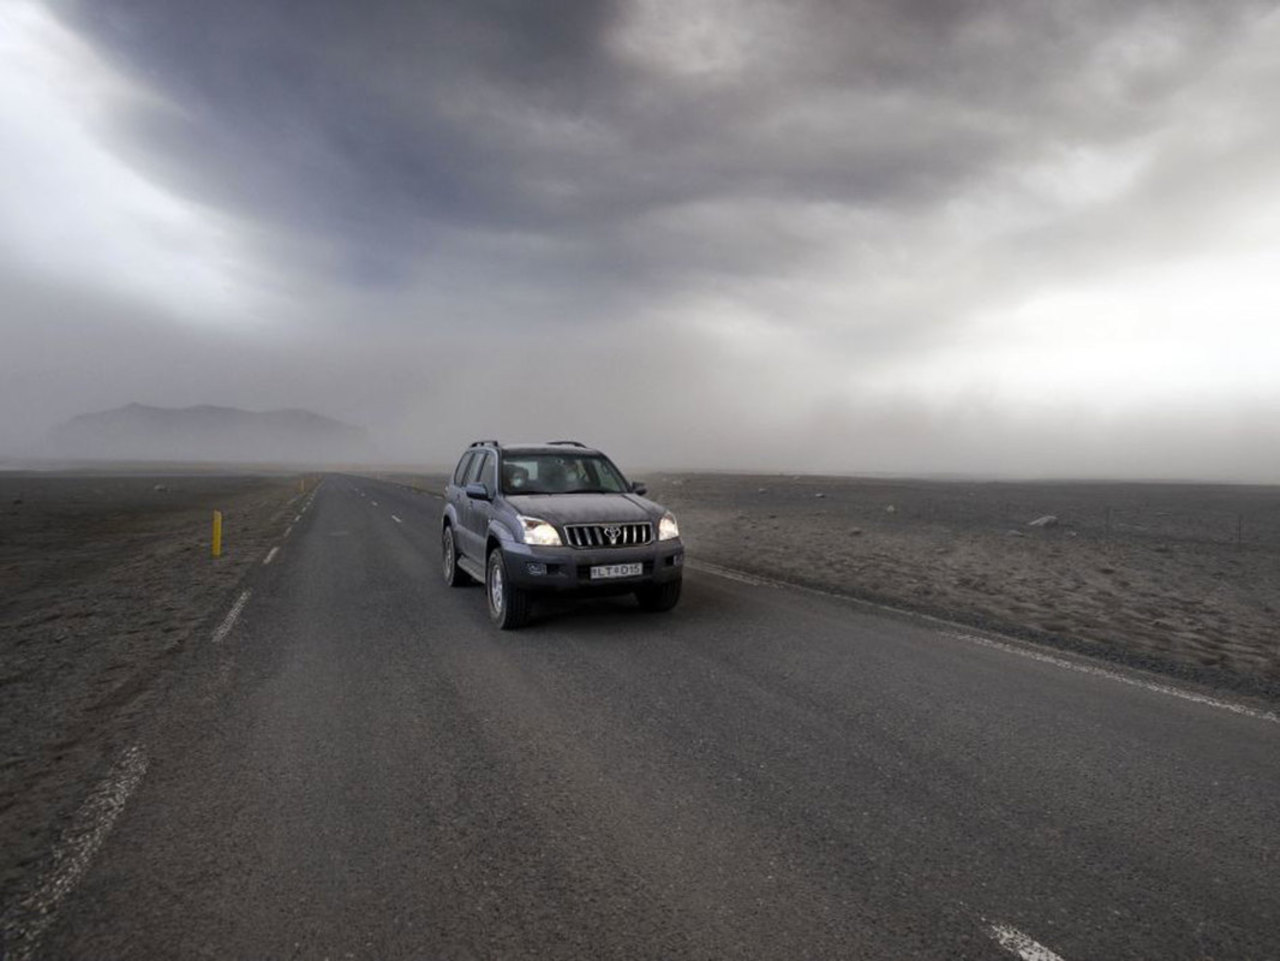car: (429, 437, 684, 626)
